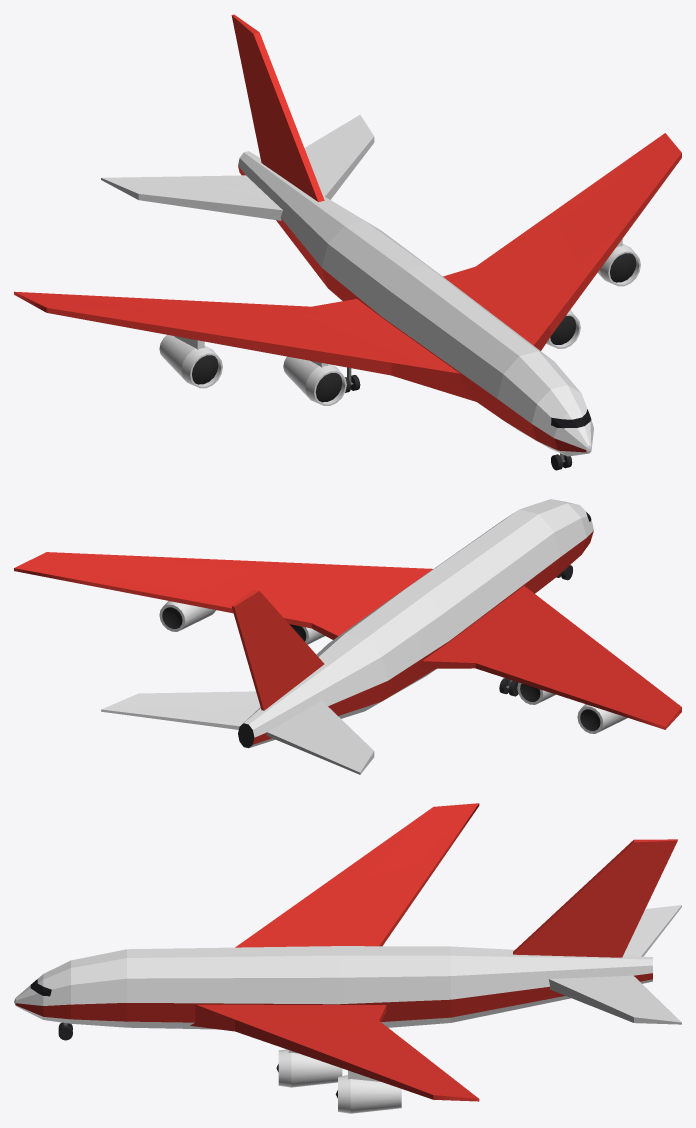
File: Big_Airplane_02.fbx
3 views of the same model, one above another, from view 1: azimuth 30°, elevation 25°; view 2: azimuth 150°, elevation 25°; view 3: azimuth 270°, elevation 25° (orthographic). The views are drawn at different scales.
Parts seen in each view (by area): view 1: Big_Airplane_02, Airplane_02_Aileron_FL, Airplane_02_Aileron_FR, Airplane_02_Aileron_RR, Airplane_02_Aileron_RL; view 2: Big_Airplane_02, Airplane_02_Aileron_FL, Airplane_02_Aileron_FR, Airplane_02_Aileron_RL, Airplane_02_Aileron_RR; view 3: Big_Airplane_02, Airplane_02_Aileron_FR, Airplane_02_Aileron_RR, Airplane_02_Aileron_FL, Airplane_02_Aileron_RL.
Boxes of the visible parts, <box> form: Big_Airplane_02: <box>14,14,681,462</box>; Airplane_02_Aileron_FL: <box>475,165,627,273</box>; Airplane_02_Aileron_FR: <box>85,295,321,313</box>; Airplane_02_Aileron_RR: <box>101,175,240,187</box>; Airplane_02_Aileron_RL: <box>304,115,364,162</box>; Big_Airplane_02: <box>14,499,681,768</box>; Airplane_02_Aileron_FL: <box>85,575,321,628</box>; Airplane_02_Aileron_FR: <box>475,655,627,714</box>; Airplane_02_Aileron_RL: <box>101,704,240,728</box>; Airplane_02_Aileron_RR: <box>278,726,364,774</box>; Big_Airplane_02: <box>14,803,677,1113</box>; Airplane_02_Aileron_FR: <box>361,837,455,946</box>; Airplane_02_Aileron_RR: <box>623,905,681,956</box>; Airplane_02_Aileron_FL: <box>361,1020,454,1079</box>; Airplane_02_Aileron_RL: <box>611,981,681,1024</box>.
Bounding box in the file's own units: 4080 × 1272 × 3897.
